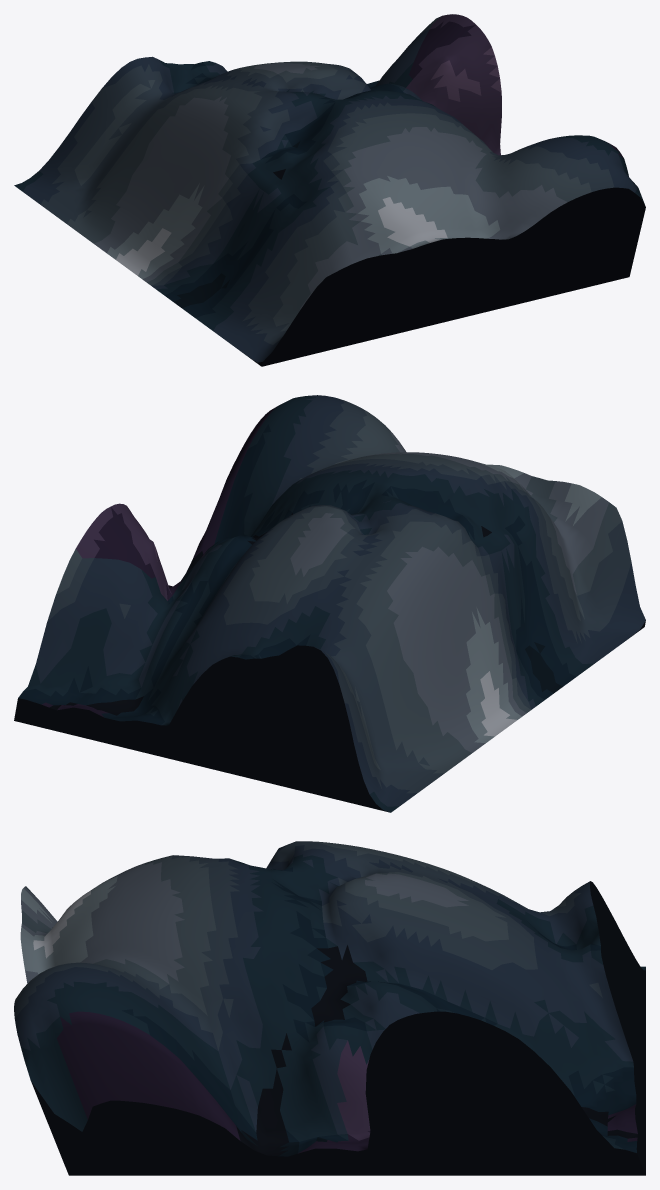
The model's file is gyges_maw_41.glb.
3 renders of one model, top to bottom at view 1: azimuth 30°, elevation 25°; view 2: azimuth 150°, elevation 25°; view 3: azimuth 270°, elevation 25°, orthographic. The views are drawn at different scales.
Parts seen in each view (by area): view 1: gyges_maw_41; view 2: gyges_maw_41; view 3: gyges_maw_41.
Boxes of the visible parts, x1,y1,x2,y2 form: gyges_maw_41: (14,14,645,366); gyges_maw_41: (14,395,645,812); gyges_maw_41: (14,841,645,1175).
Size of the model in its own units: 24 by 10.35 by 30.67.
